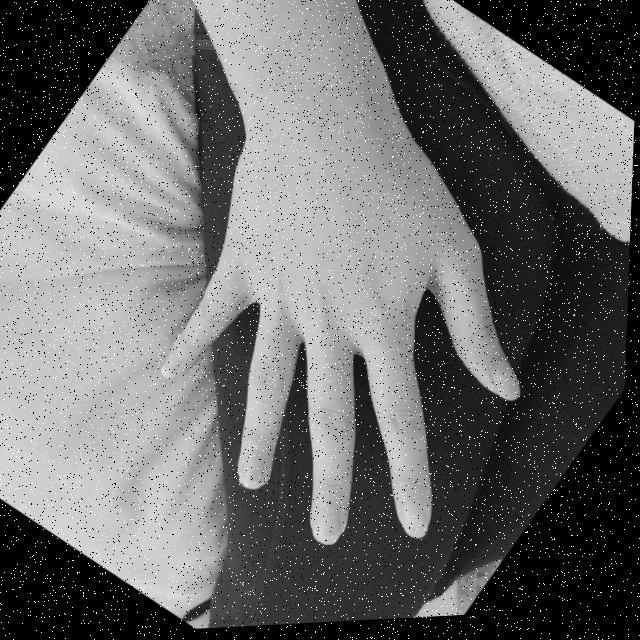no-gloves: (64, 63, 616, 613)
